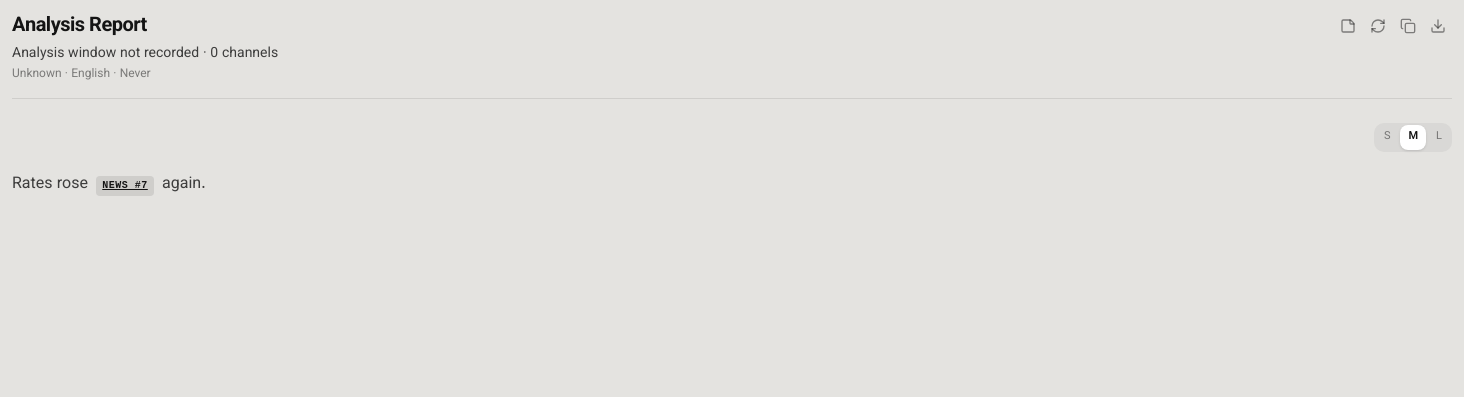
a Citation in the report › hovering shows the Cited Post as it is now, as a full post card
Hover over the link "news #7" at (125, 186), box x1=96 y1=176 x2=154 y2=196
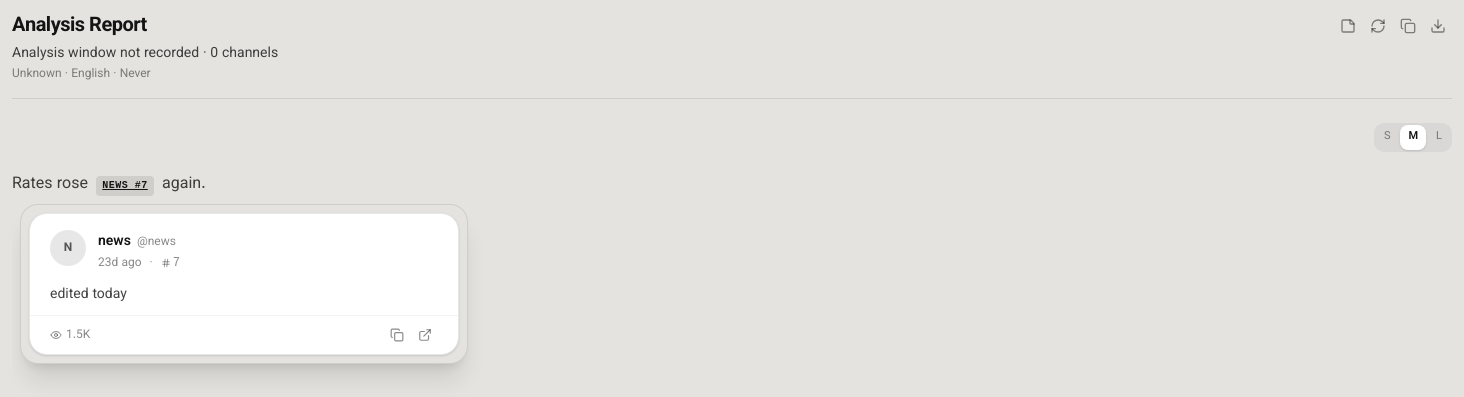
Expected: the text "edited today" is shown, x1=50 y1=284 x2=127 y2=306
Expected: the text "1.5K" is shown, x1=50 y1=326 x2=90 y2=344
